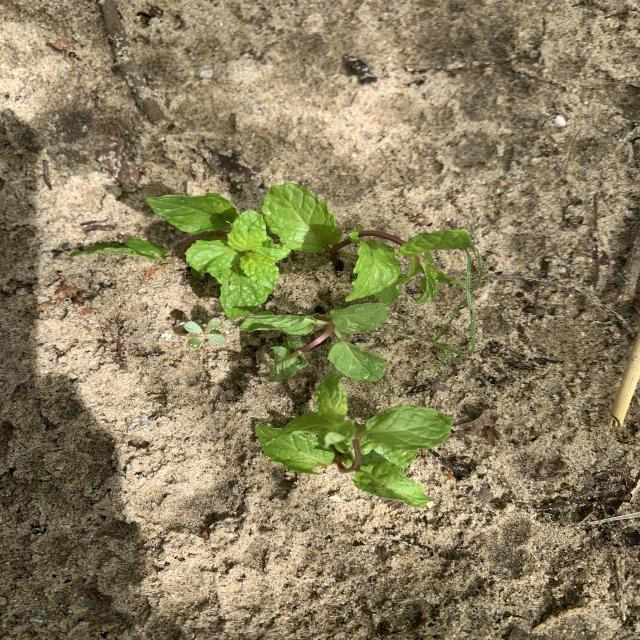crop: (70, 193, 291, 318), (256, 375, 452, 507), (262, 183, 474, 305), (240, 303, 388, 382)
weed: (432, 249, 476, 377), (184, 318, 226, 348), (470, 242, 483, 286)
